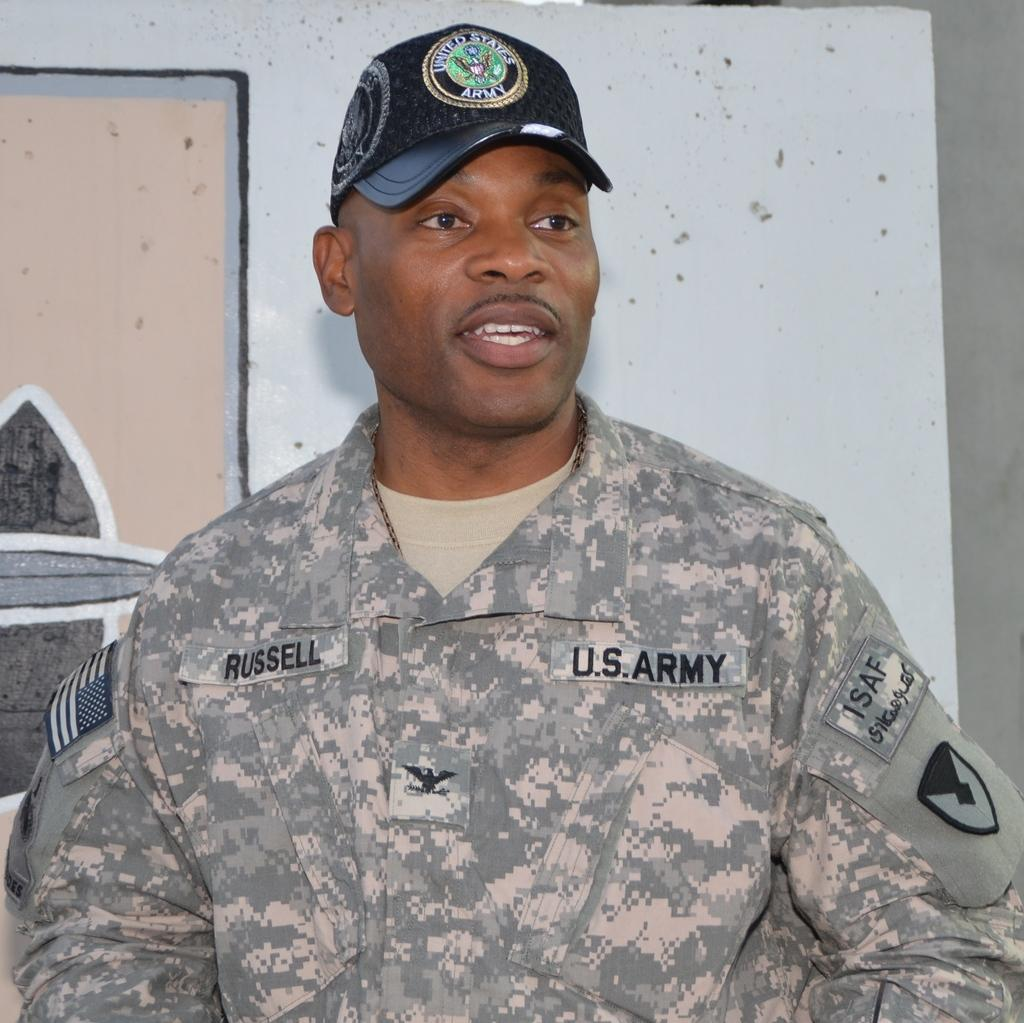Hat: (331, 20, 611, 212)
